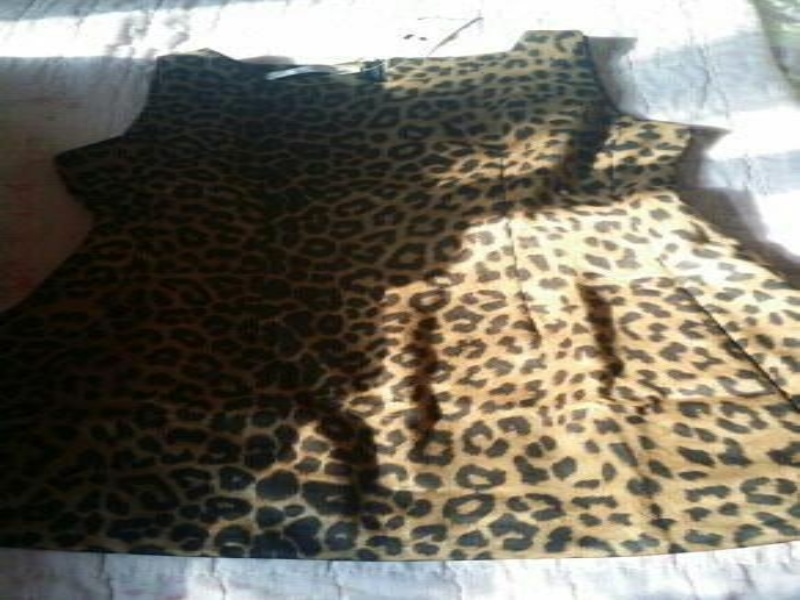vest_dress: (3, 28, 797, 565)
